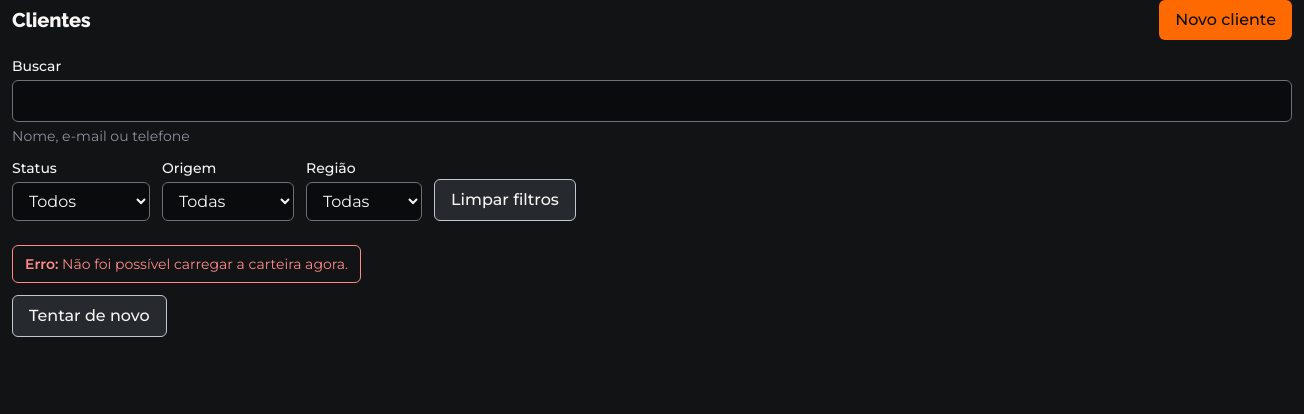
it: ListaDeClientes › refaz a consulta e exibe a lista ao tentar de novo
Expected: the message "Erro: Não foi possível carregar a carteira agora." is shown, [12, 245, 361, 283]
Click the button "Tentar de novo" at (89, 316), box [12, 295, 167, 337]
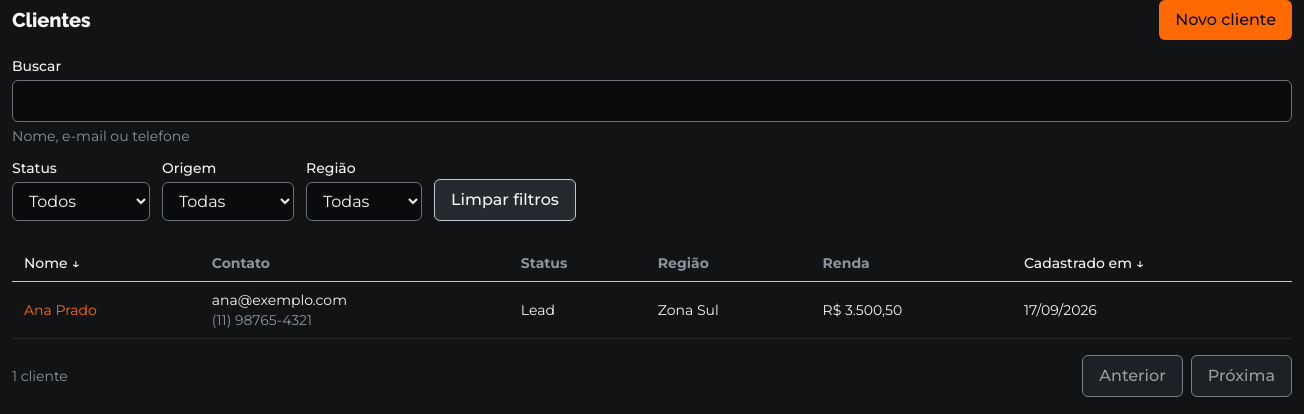
Expected: the table is shown, [12, 245, 1292, 339]
Expected: the number of links "Ana Prado" is 2
